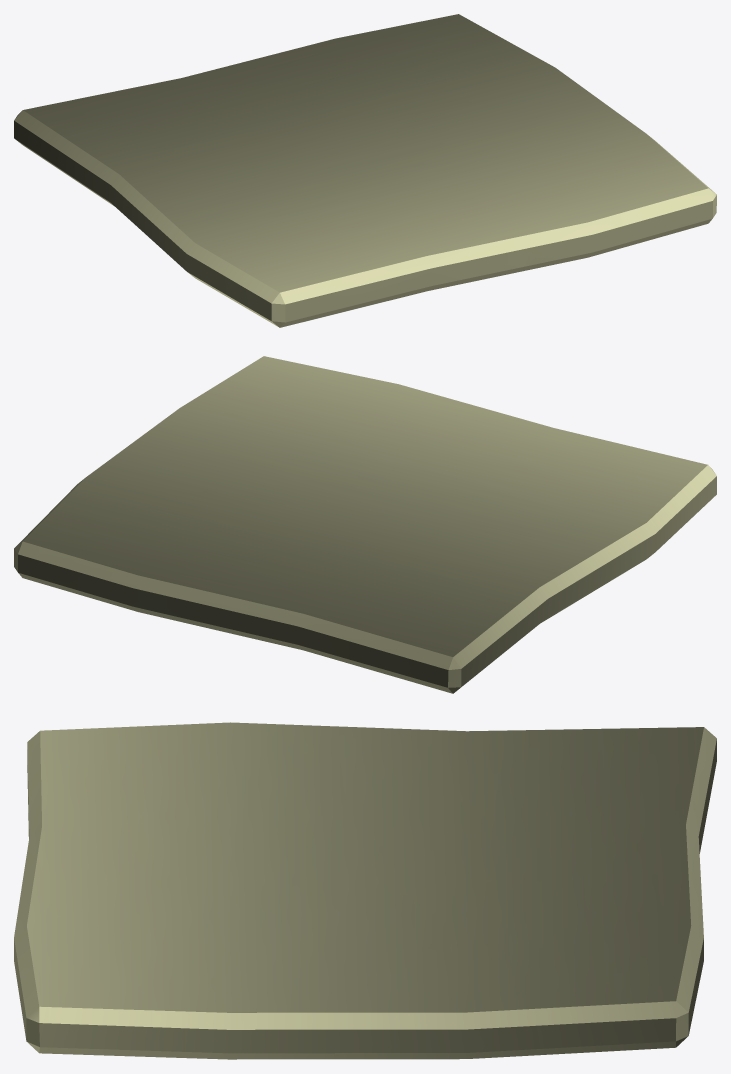
The model's file is Platform.fbx.
3 renders of one model, top to bottom at view 1: azimuth 30°, elevation 25°; view 2: azimuth 150°, elevation 25°; view 3: azimuth 270°, elevation 25°, orthographic. The views are drawn at different scales.
Visible parts, largest first — view 1: Platform; view 2: Platform; view 3: Platform.
Part boxes in pixels (box(x1,y1,x2,y2)): Platform: box(14, 14, 716, 327); Platform: box(14, 356, 716, 693); Platform: box(14, 722, 716, 1059).
Bounding box in the file's own units: 474 × 34.21 × 467.
